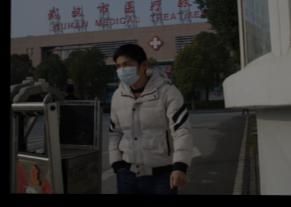with_mask: (114, 59, 141, 85)
